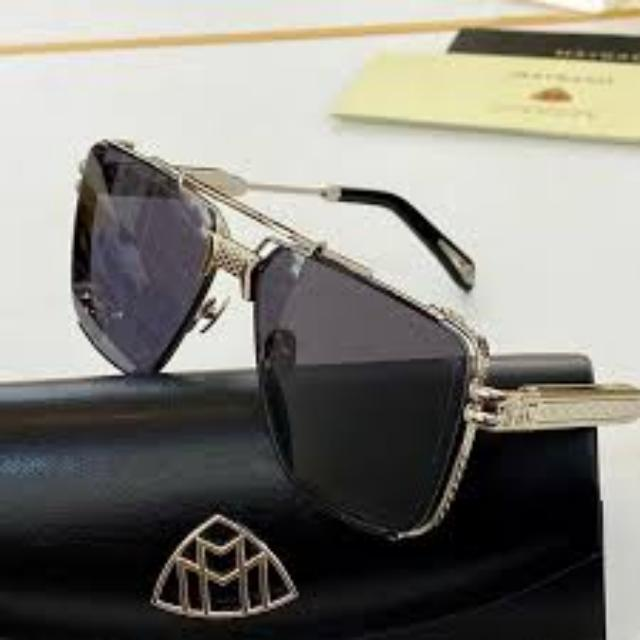glasses: (46, 91, 640, 529)
